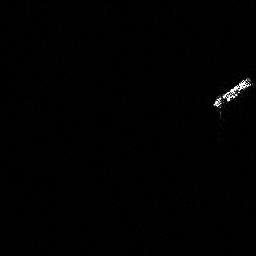ship: (207, 73, 255, 111)
